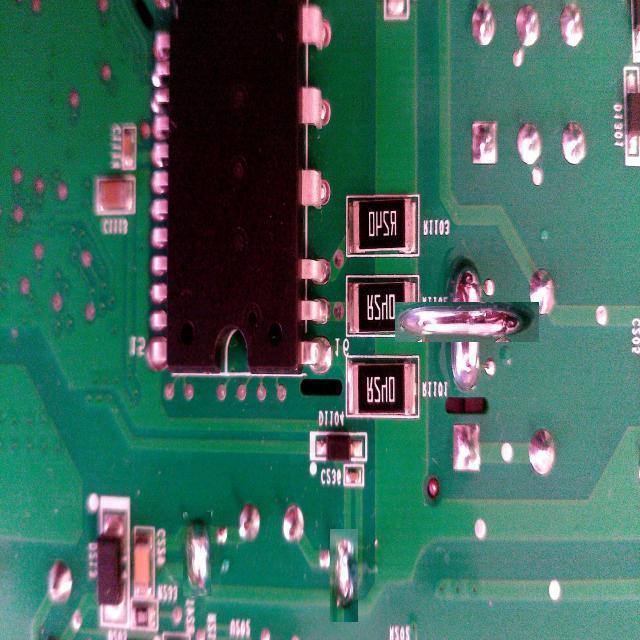Short_circuit: (421, 276, 513, 369), (329, 528, 358, 622), (183, 512, 211, 596)
